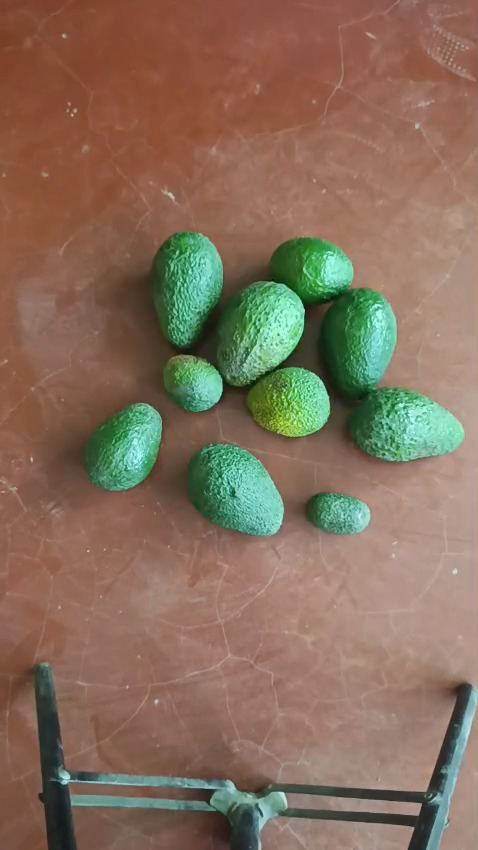Primera: (214, 281, 305, 386), (187, 443, 284, 534), (150, 230, 224, 349), (348, 387, 465, 461), (319, 288, 398, 396)
Segunda: (83, 402, 163, 491), (268, 236, 353, 306), (246, 367, 330, 437)
Tercera: (162, 354, 224, 413), (306, 492, 370, 534)
